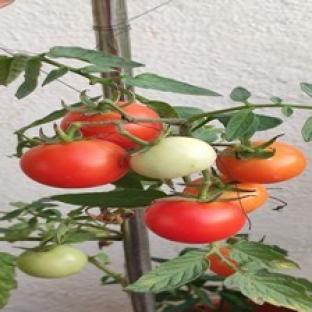Tomato: (20, 140, 128, 188), (145, 201, 246, 243), (216, 143, 306, 183), (130, 137, 215, 179), (17, 246, 87, 278), (80, 124, 139, 149), (219, 183, 268, 213), (207, 254, 235, 277), (255, 303, 294, 311)
